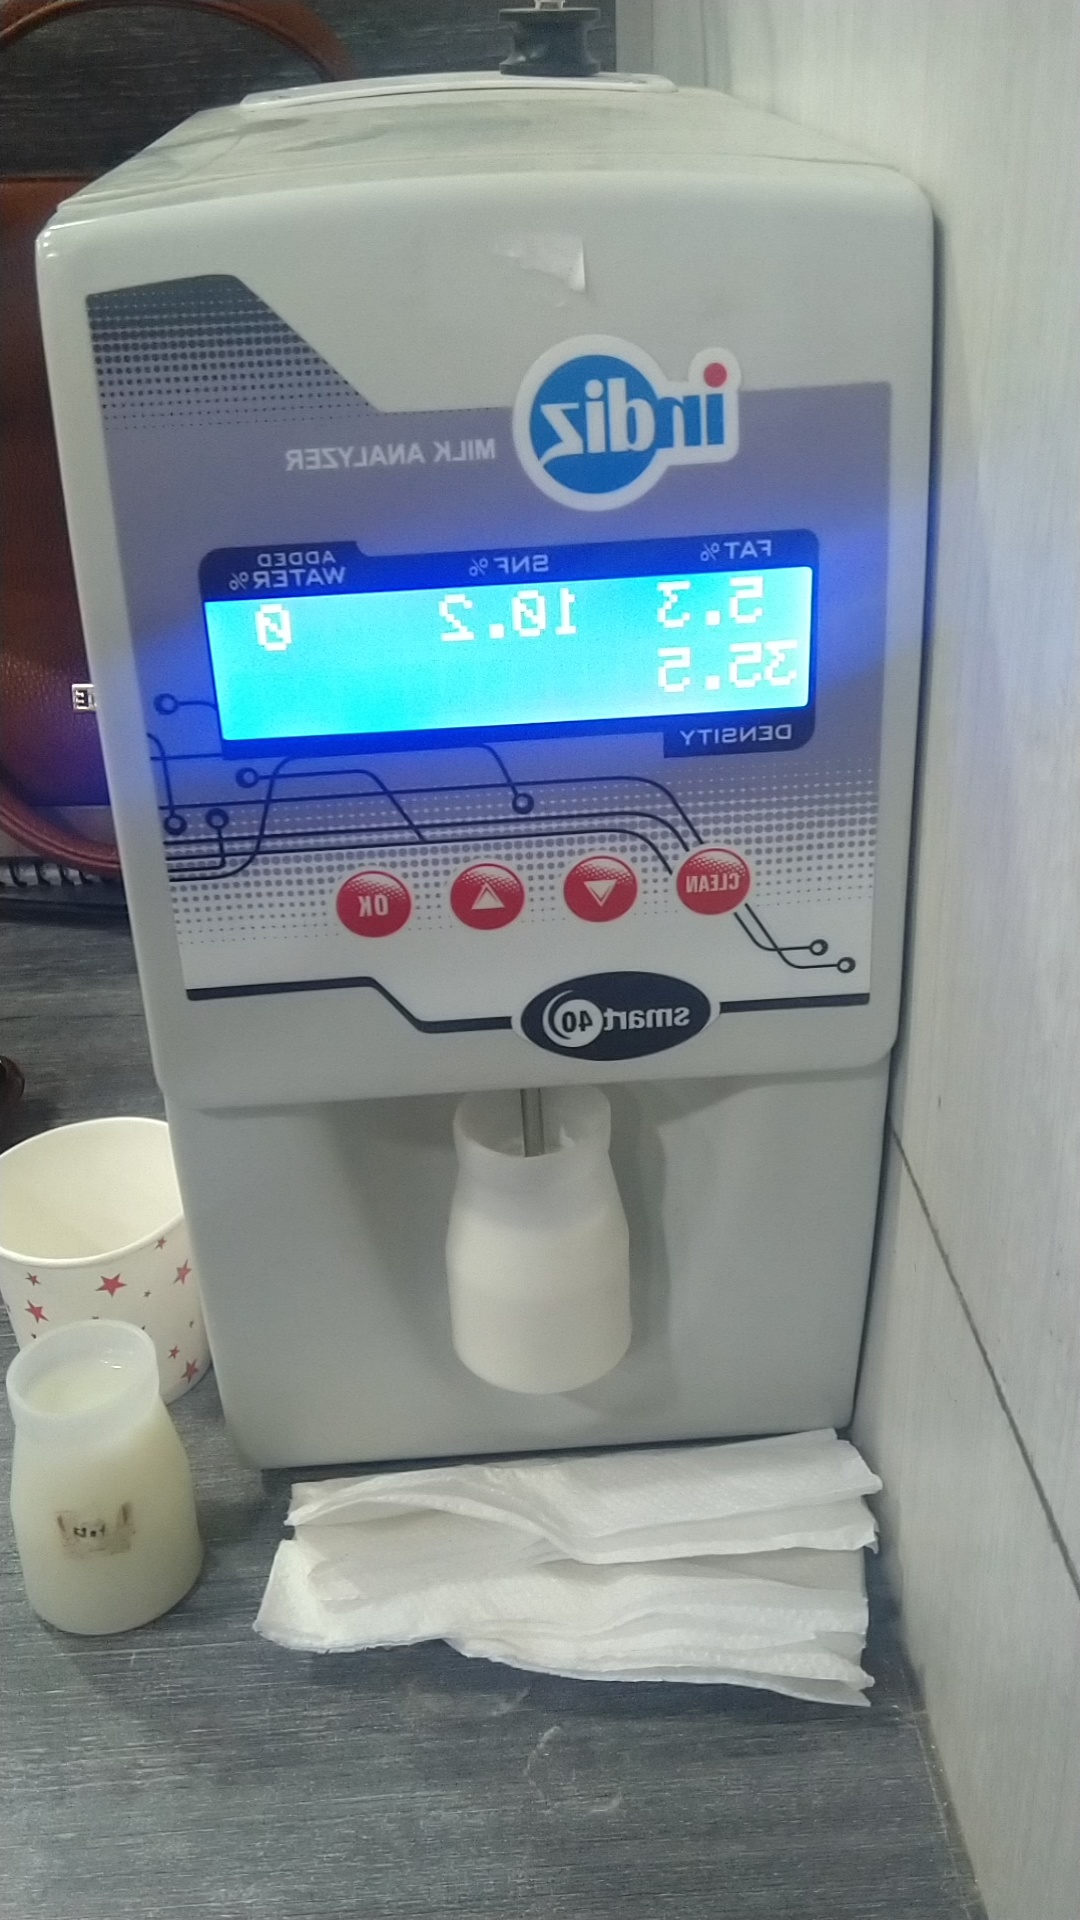lcd: (204, 553, 837, 752)
